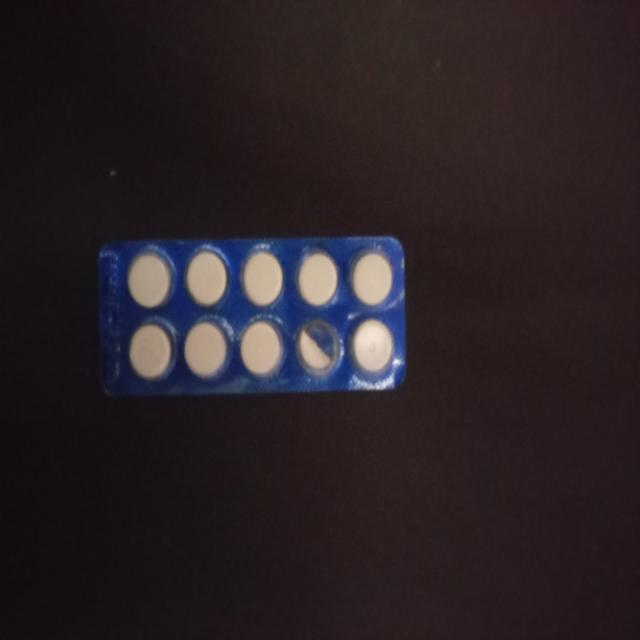defect: (292, 315, 342, 382)
